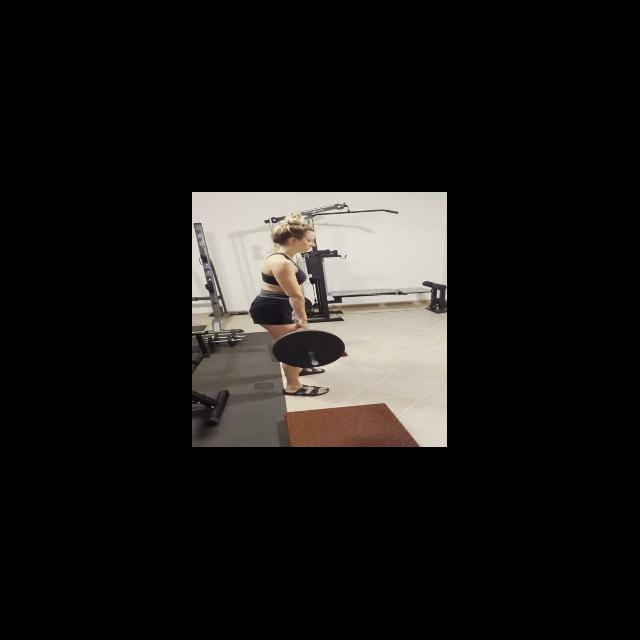barbell: (272, 327, 346, 369)
